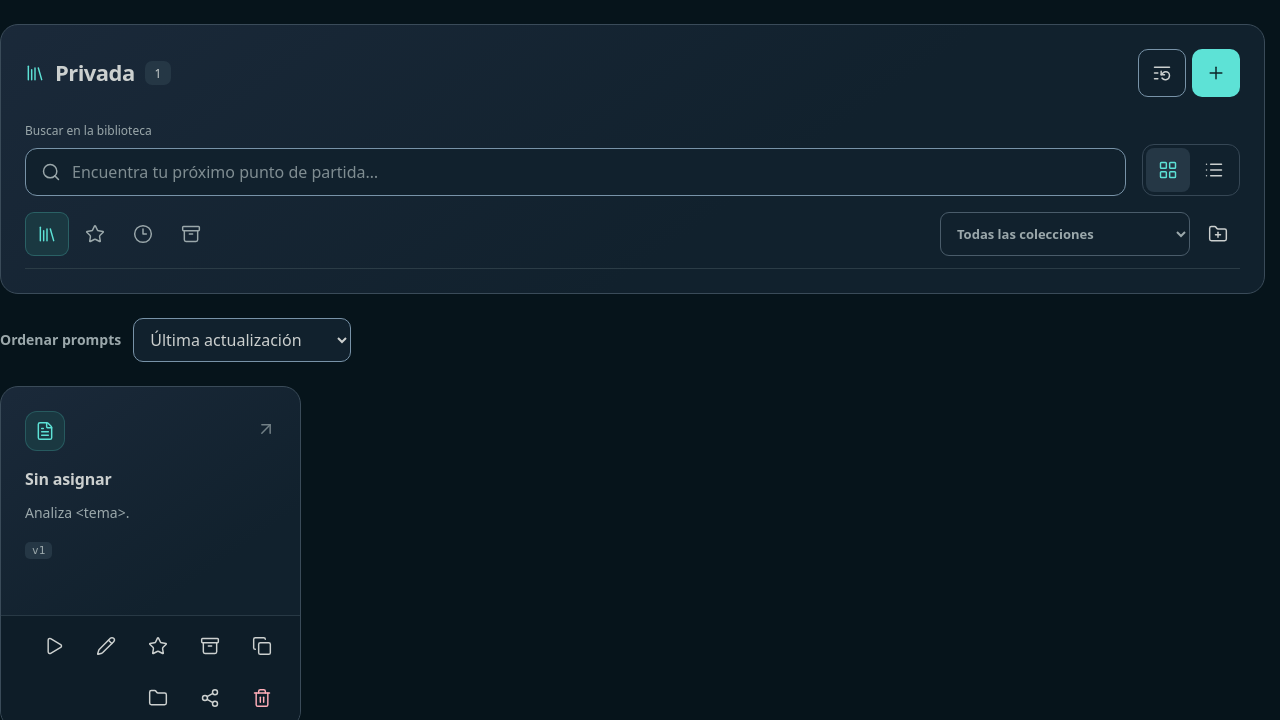
Test: filters the account library on the server and does not silently assign a newly created prompt to that collection
Expected: the button named "Usar Sin asignar" is shown, [32,624,76,668]
Select "Ideas" in the dropdown named "Filtrar por colección" at (1065, 234), box [940,212,1190,256]
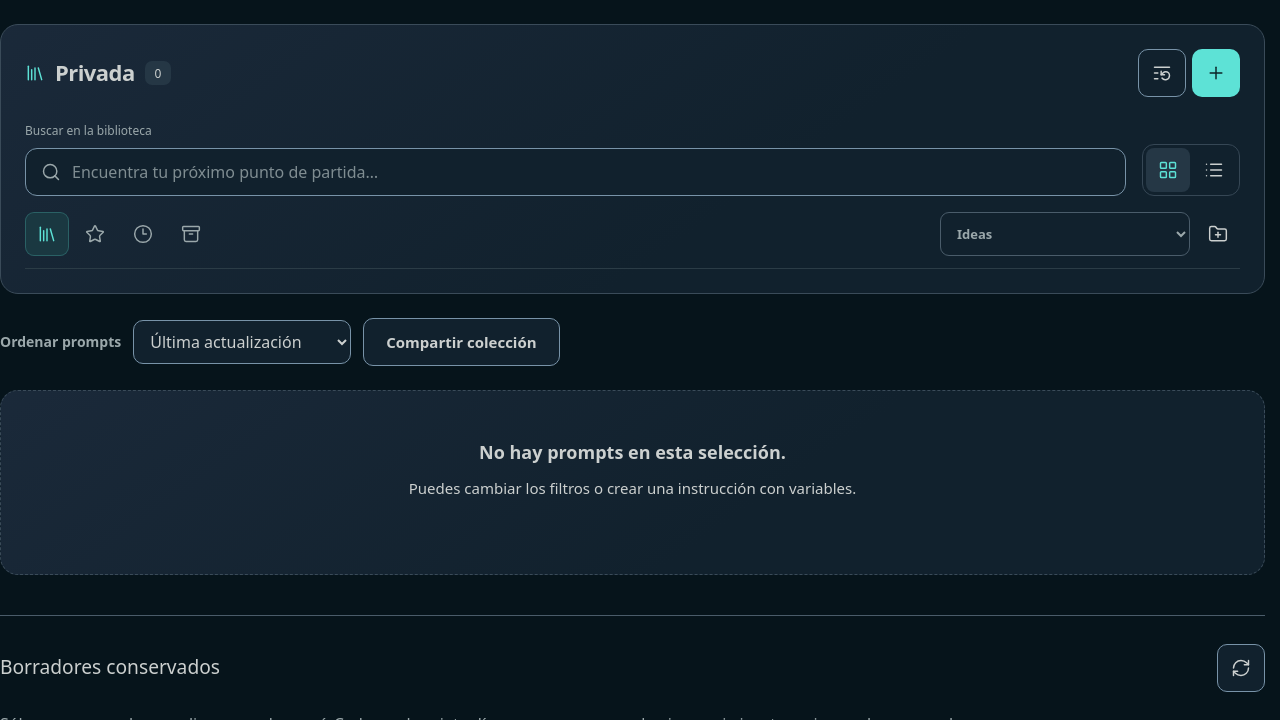
Expected: the heading "No hay prompts en esta selección." is shown, [479,440,786,464]
Click the button named "Crear prompt" at (1216, 73), box [1192,49,1240,97]
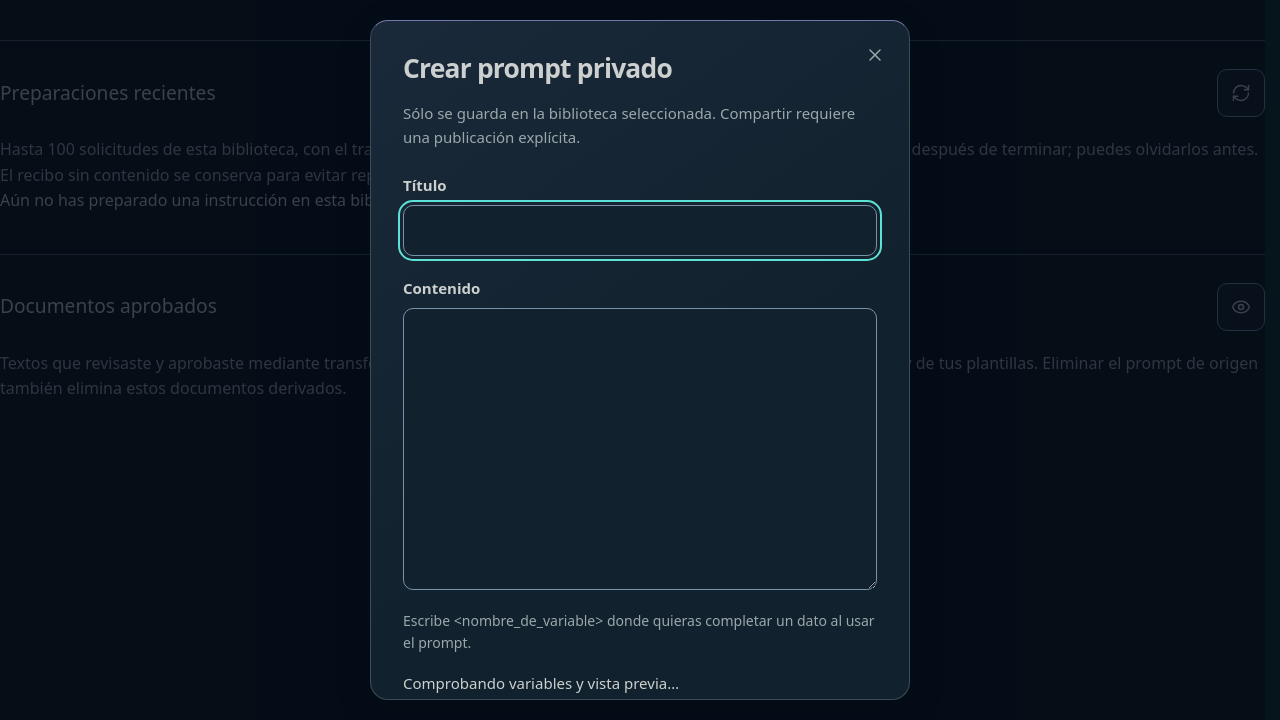
Type "Nuevo sin asignar" into the field labelled "Título" at (640, 230), box [403,205,877,256]
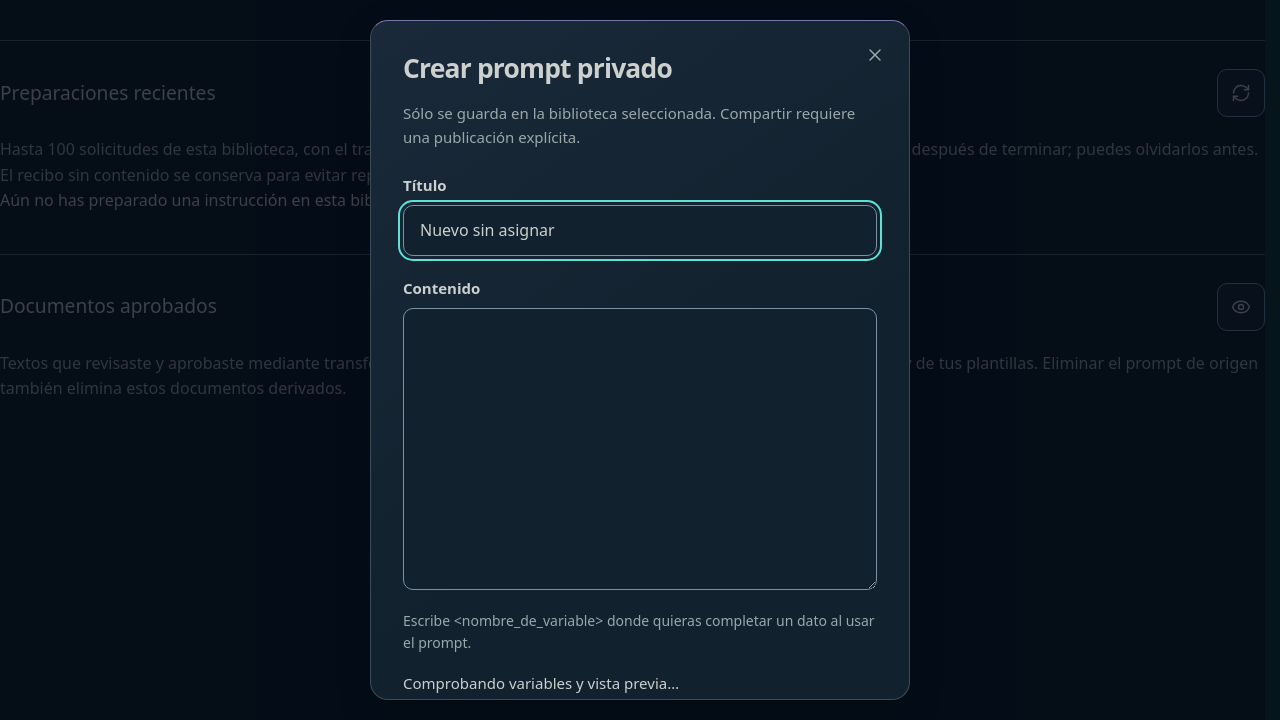
Type "Explica <tema>." into the text box labelled "Contenido" at (640, 449), box [403,308,877,590]
(page scrolled)
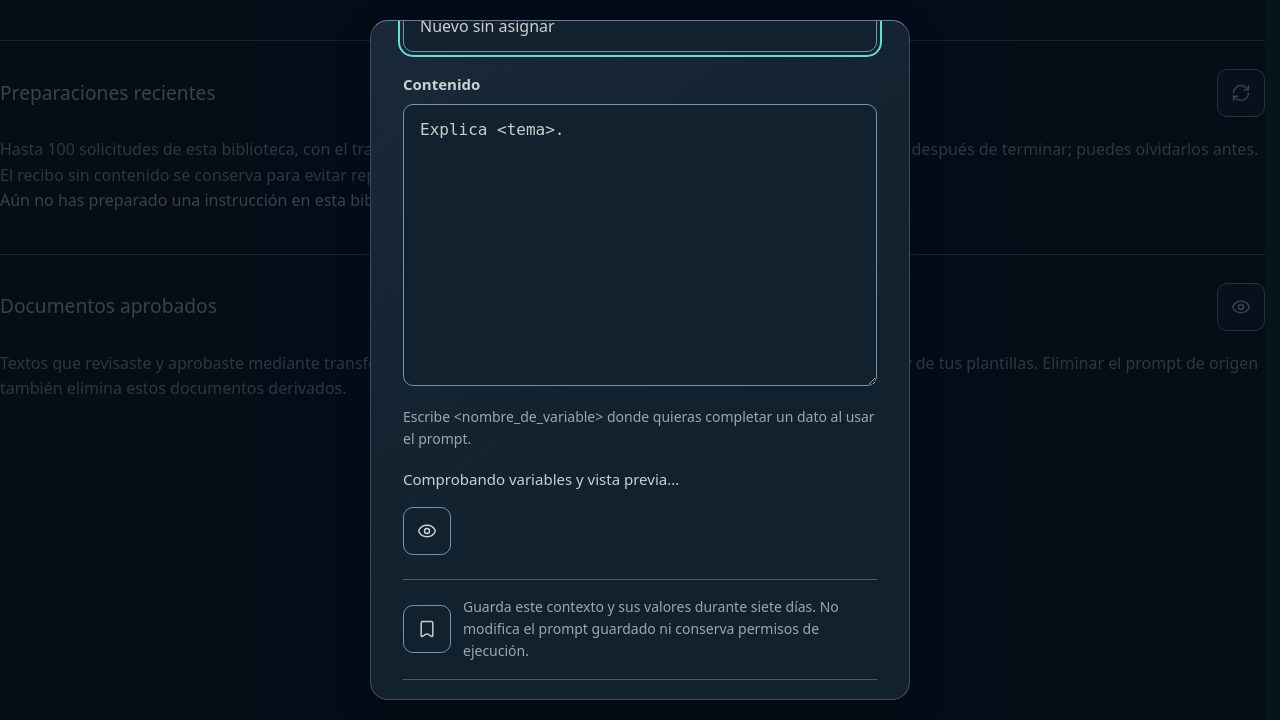
Submit the form named "Guardar prompt"
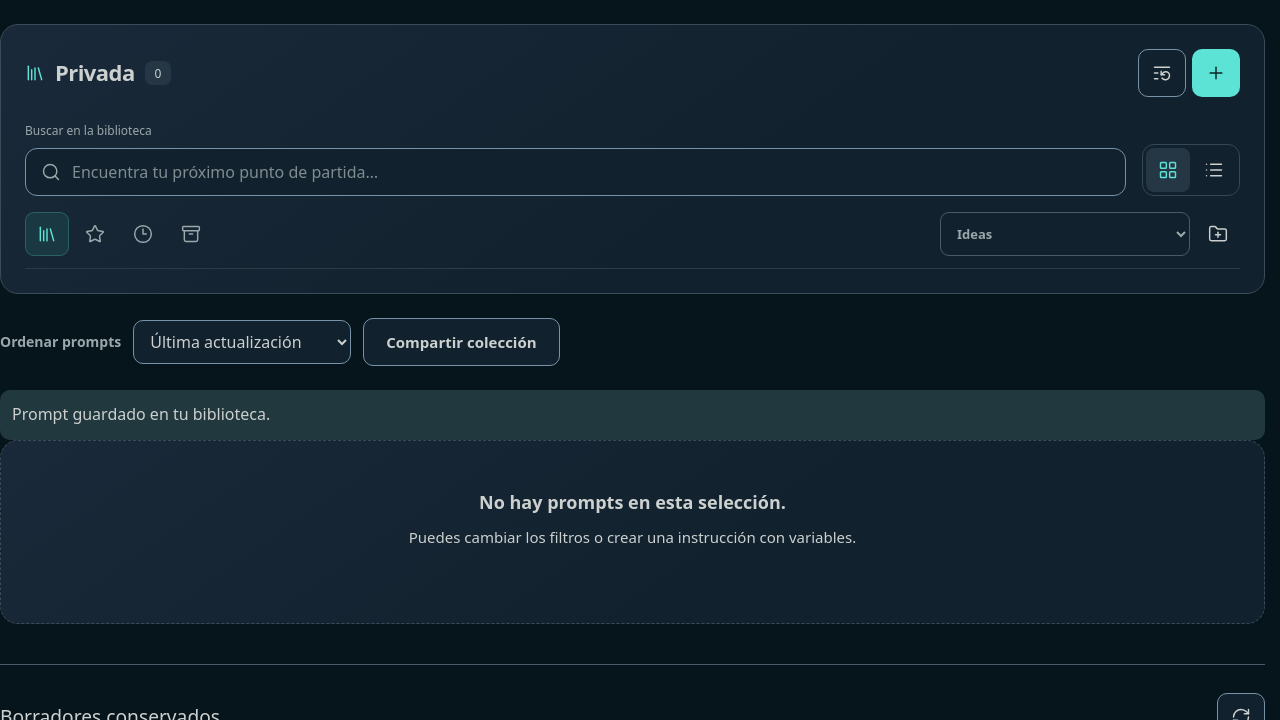
Expected: the dialog is gone
Expected: the heading "No hay prompts en esta selección." is shown, [479,490,786,514]
